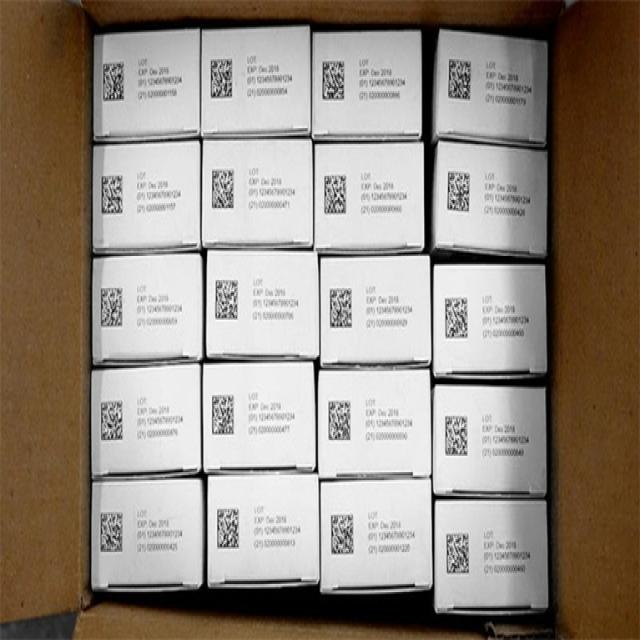datamatrix: (98, 388, 128, 458), (212, 499, 245, 562), (95, 501, 126, 565), (212, 267, 243, 330), (444, 162, 475, 224), (442, 288, 473, 350), (442, 406, 472, 469), (326, 277, 356, 339), (443, 525, 474, 584), (324, 394, 357, 449), (320, 54, 350, 114), (208, 388, 238, 447), (328, 504, 357, 565), (98, 166, 128, 224), (96, 278, 128, 329), (320, 170, 350, 222), (446, 52, 474, 106), (209, 162, 237, 214), (207, 56, 237, 104), (101, 56, 127, 104)
